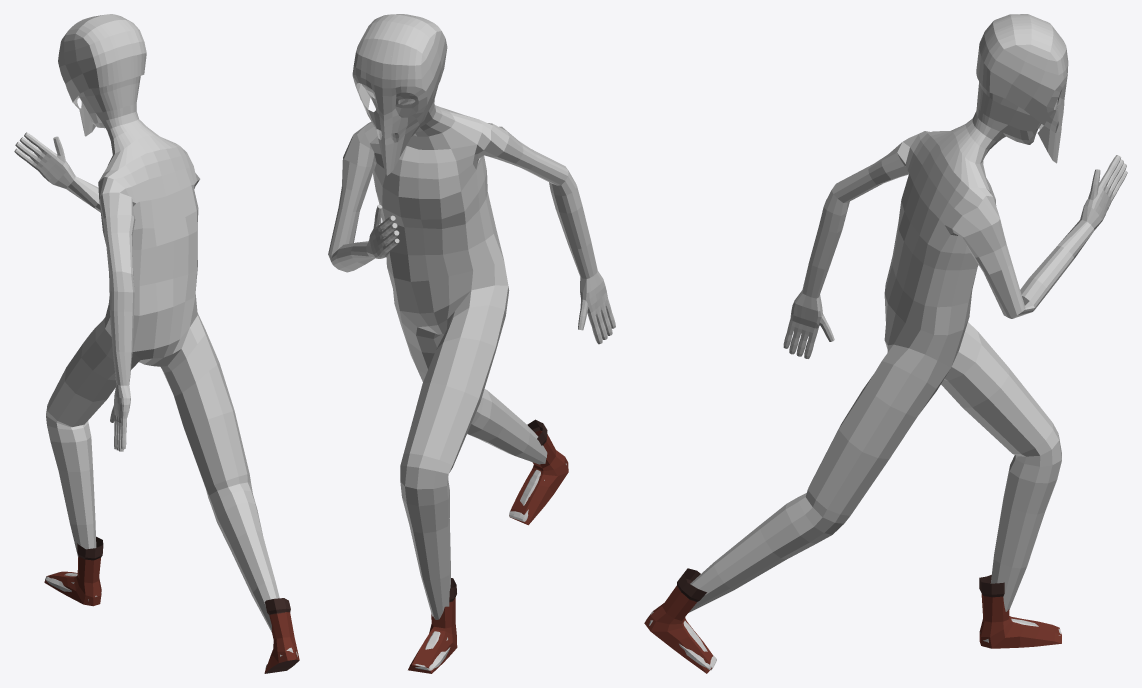
File: marcha5_000043.obj
3 views of the same model, side by side, from view 1: azimuth 30°, elevation 25°; view 2: azimuth 150°, elevation 25°; view 3: azimuth 270°, elevation 25° (orthographic). The views are drawn at different scales.
Parts seen in each view (by area): view 1: Plane.002_Plane.001, Plane.004, Plane.003; view 2: Plane.002_Plane.001, Plane.003, Plane.004; view 3: Plane.002_Plane.001, Plane.004, Plane.003.
Part boxes in pixels (box(x1,y1,x2,y2)): Plane.002_Plane.001: box(14, 14, 297, 668); Plane.004: box(44, 536, 103, 606); Plane.003: box(264, 598, 299, 673); Plane.002_Plane.001: box(328, 14, 615, 670); Plane.003: box(509, 419, 568, 525); Plane.004: box(408, 578, 457, 673); Plane.002_Plane.001: box(649, 14, 1127, 670); Plane.004: box(979, 575, 1061, 648); Plane.003: box(644, 568, 712, 673).
Size of the model in its own units: 1.88 by 6.43 by 4.42.
